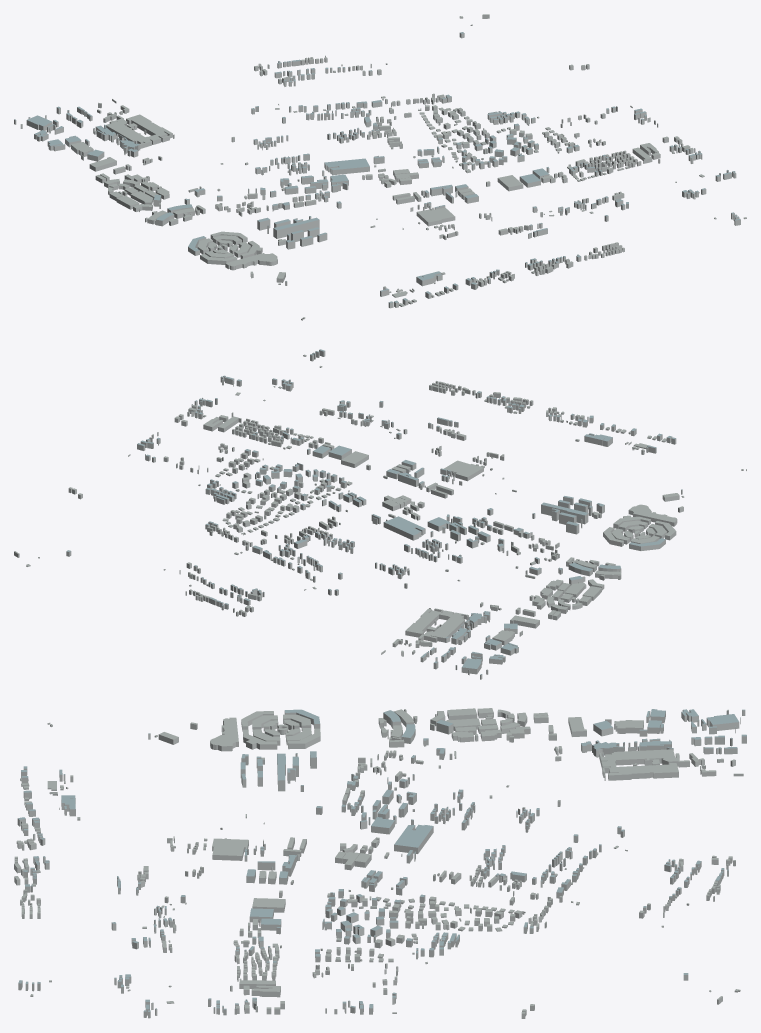
The model's file is far.glb.
3 views of the same model, one above another, from view 1: azimuth 30°, elevation 25°; view 2: azimuth 150°, elevation 25°; view 3: azimuth 270°, elevation 25° (orthographic). The views are drawn at different scales.
Bounding box in the file's own units: 2069 × 35.95 × 2095.
